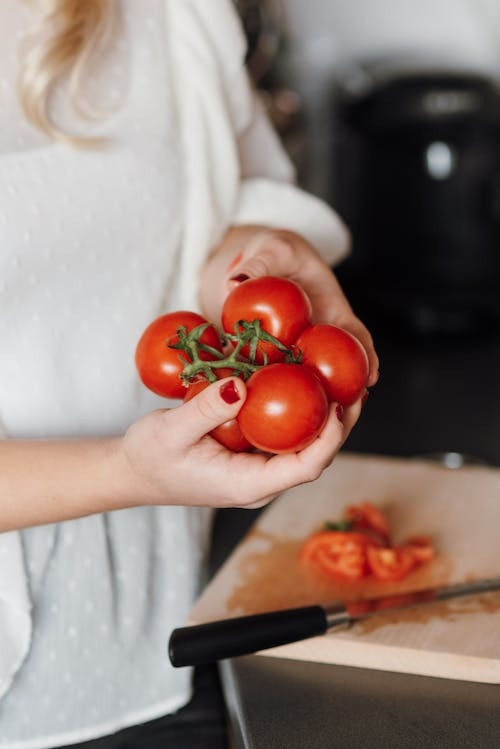knife: (164, 578, 500, 671)
